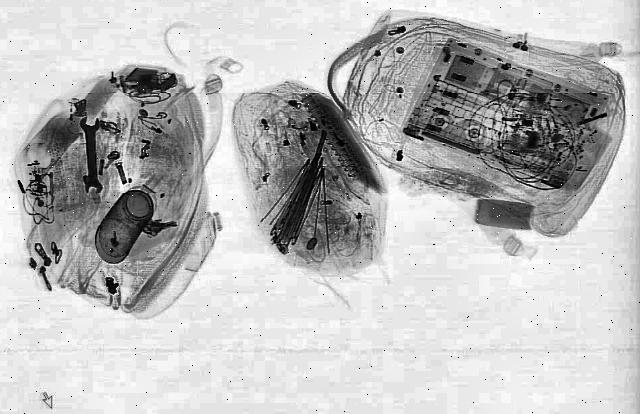Wrench: (80, 116, 104, 194)
